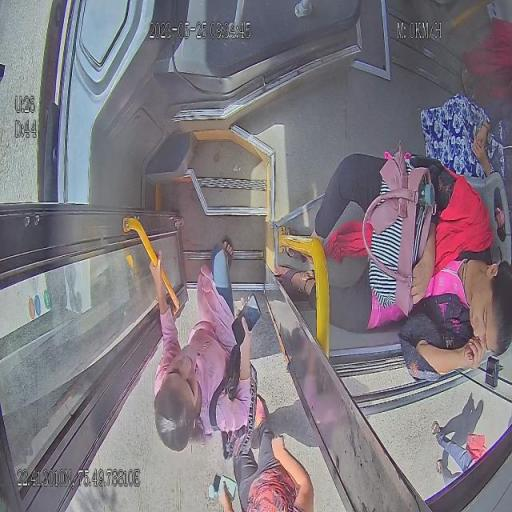persona: (273, 143, 511, 383), (148, 239, 258, 454), (210, 390, 313, 512), (430, 392, 488, 487)
